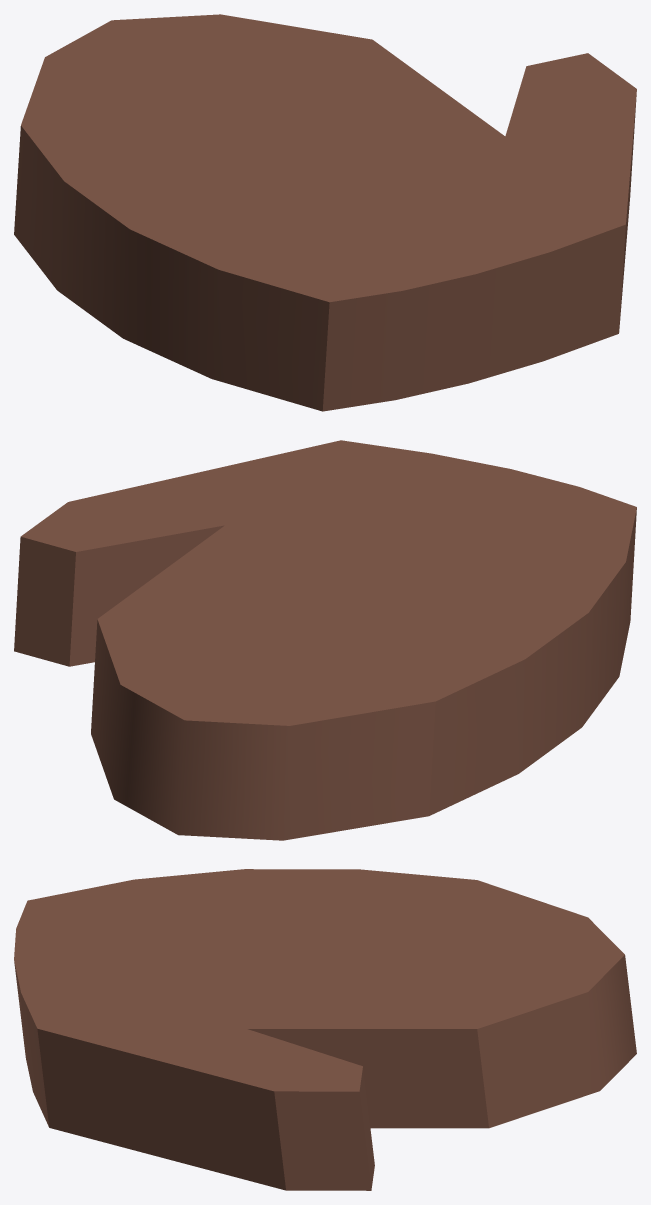
File: LeftHand.fbx
3 renders of one model, top to bottom at view 1: azimuth 30°, elevation 25°; view 2: azimuth 150°, elevation 25°; view 3: azimuth 270°, elevation 25°, orthographic. The views are drawn at different scales.
Visible parts, largest first — view 1: Object003; view 2: Object003; view 3: Object003.
Part boxes in pixels (x1=…): Object003: x1=14, y1=14, x2=636, y2=411; Object003: x1=14, y1=440, x2=636, y2=840; Object003: x1=14, y1=869, x2=636, y2=1190.
Size of the model in its own units: 9.32 by 1.95 by 11.04.
